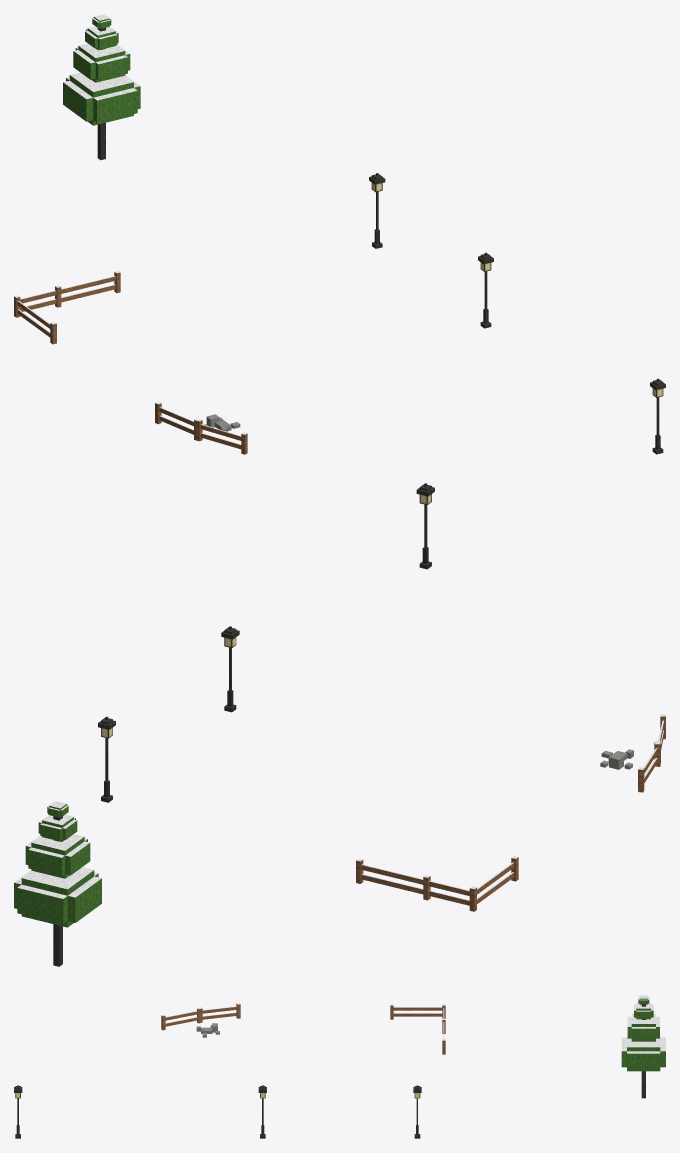
File: clan_fortress01_elements.fbx
3 renders of one model, top to bottom at view 1: azimuth 30°, elevation 25°; view 2: azimuth 150°, elevation 25°; view 3: azimuth 270°, elevation 25°, orthographic. The views are drawn at different scales.
Parts seen in each view (by area): view 1: fir002, fence, fence005; view 2: fir002, fence, fence002; view 3: fir002, fence002, fence004, fence005.
Part boxes in pixels (x1,y1,x2,y2): fir002: [63, 14, 140, 160]; fence: [61, 271, 120, 302]; fence005: [194, 418, 247, 454]; fir002: [14, 801, 101, 966]; fence: [356, 858, 423, 894]; fence002: [469, 862, 514, 911]; fir002: [621, 995, 665, 1098]; fence002: [393, 1004, 445, 1018]; fence004: [197, 1003, 240, 1023]; fence005: [161, 1007, 202, 1030].
Bounding box in the file's own units: 26.03 × 9.96 × 58.71.
Materials: 1 (1 with a texture image).
